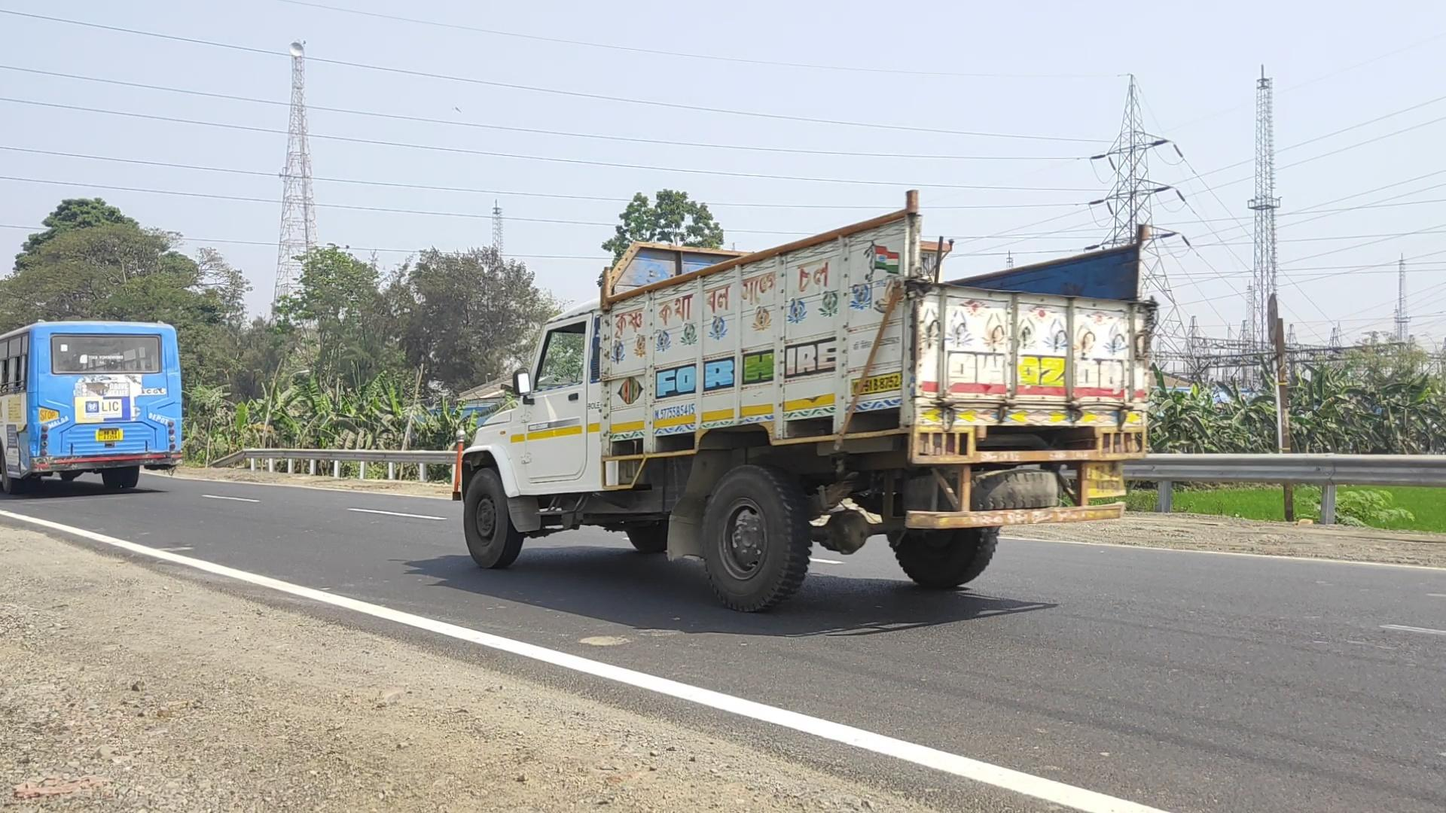Bus: (2, 316, 184, 499)
truck: (450, 190, 1157, 608)
